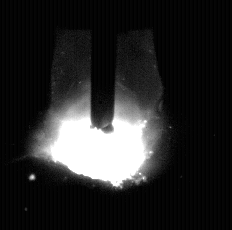arame: (91, 0, 116, 132)
poca: (42, 0, 162, 230)
